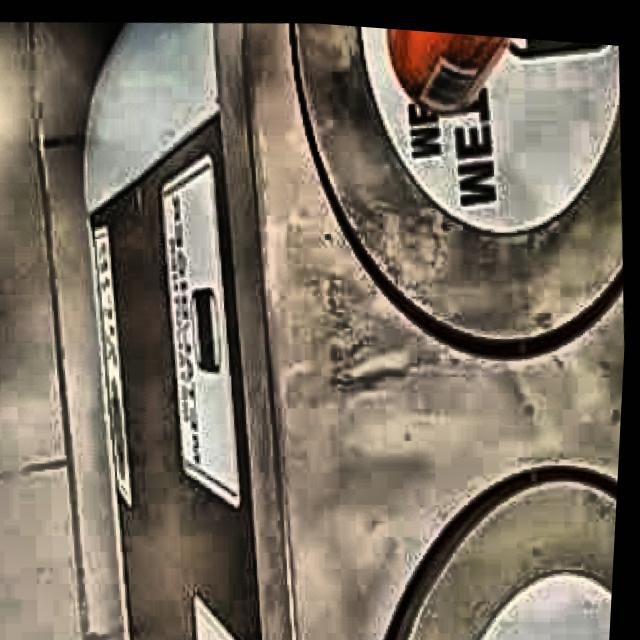metal: (386, 22, 509, 105)
